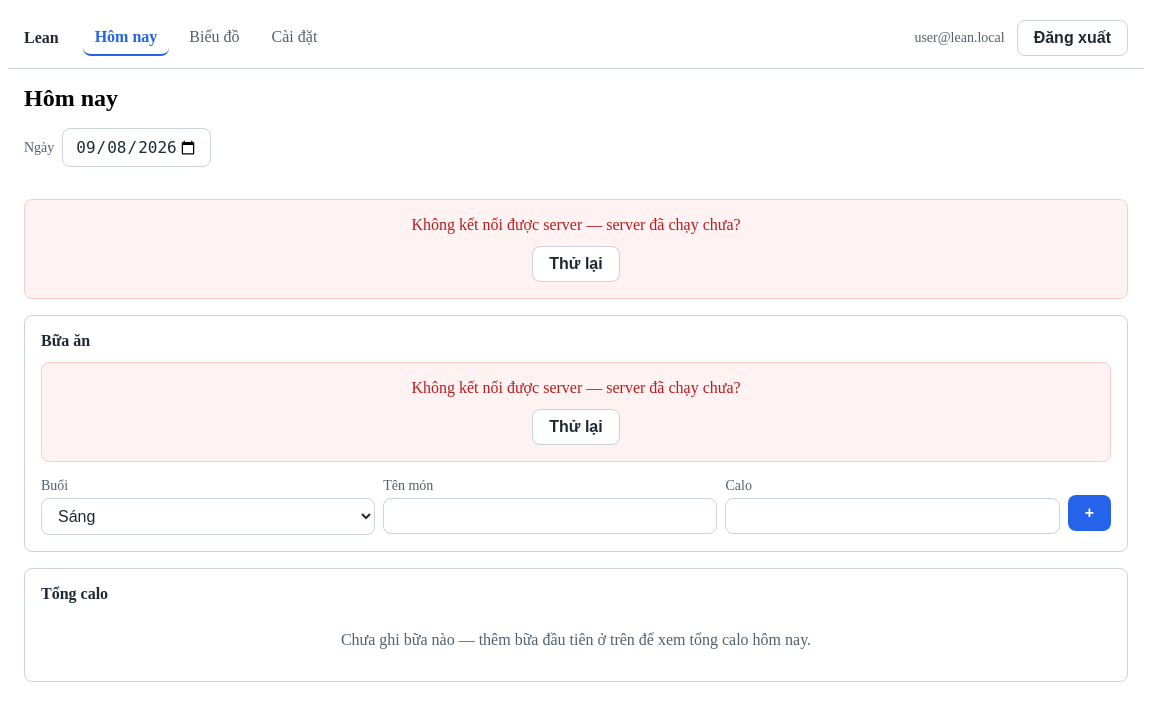
AppLayout: thanh tab — click, đường dẫn đổi, tab đang mở được đánh dấu › bấm Đăng xuất → gọi API logout rồi về trang Đăng nhập
Click the button "Đăng xuất".
click(1072, 38)  # box [1017, 20, 1128, 56]
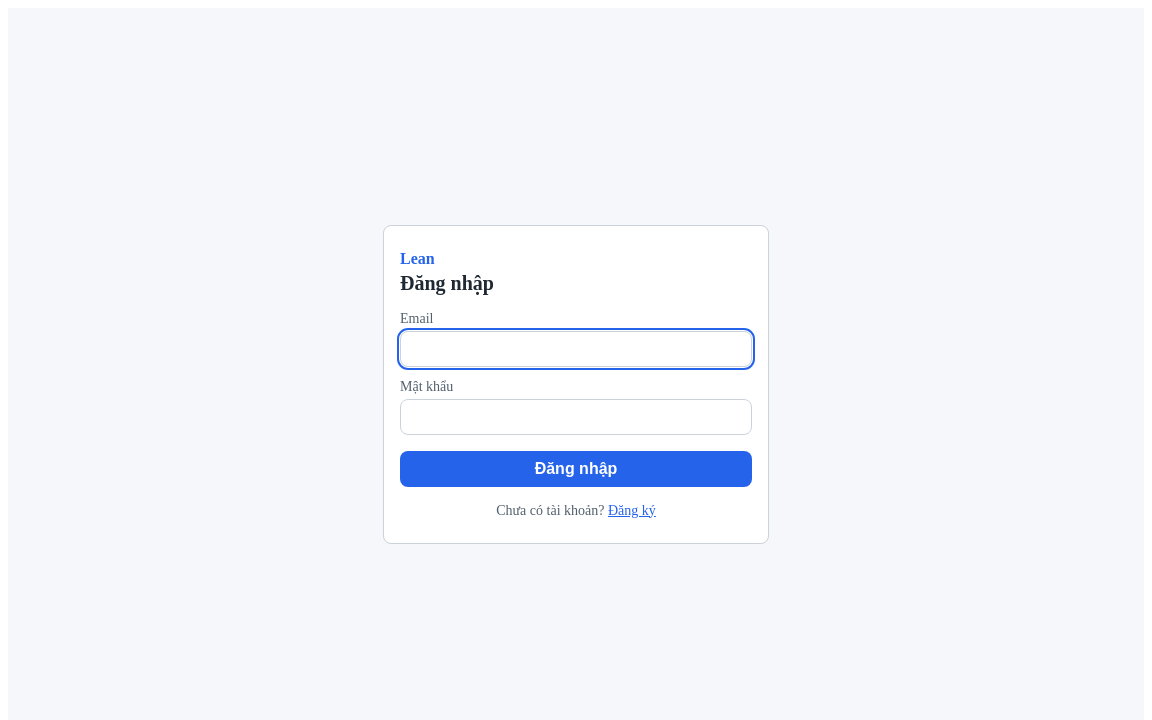
Now the heading "Đăng nhập" is shown, box [400, 272, 494, 294]
